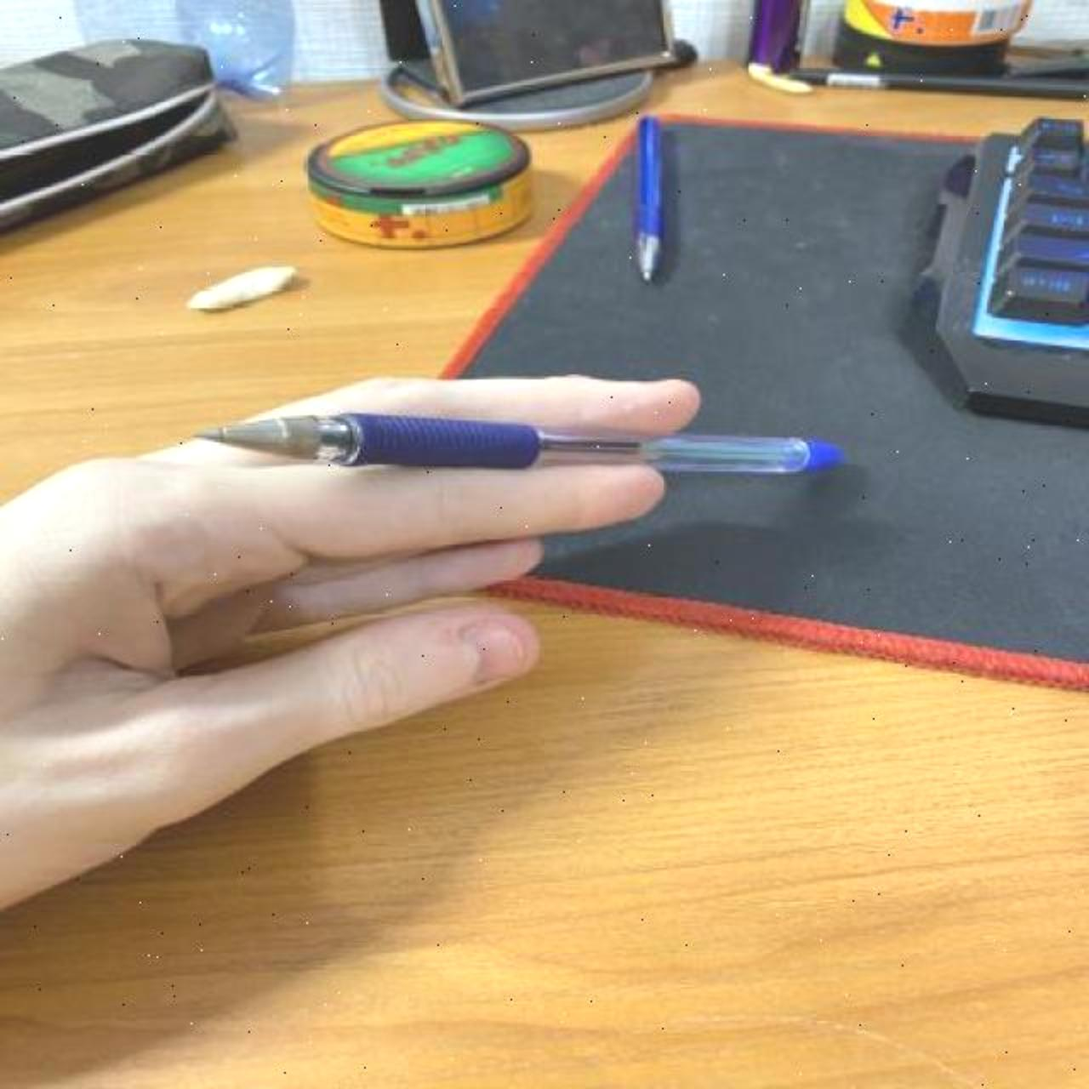pen: (185, 407, 854, 478)
